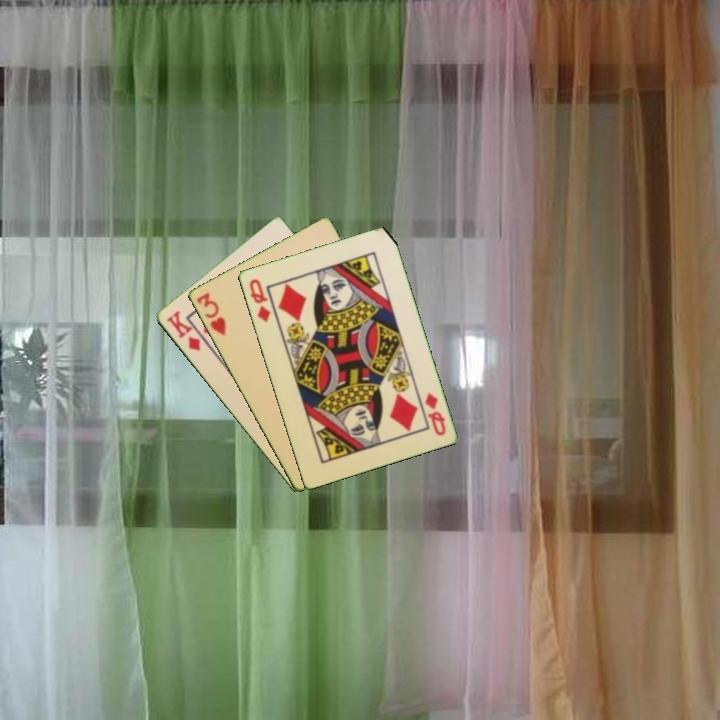3h: (192, 289, 228, 339)
Kd: (162, 307, 203, 354)
Qd: (245, 275, 273, 326), (421, 389, 448, 439)
